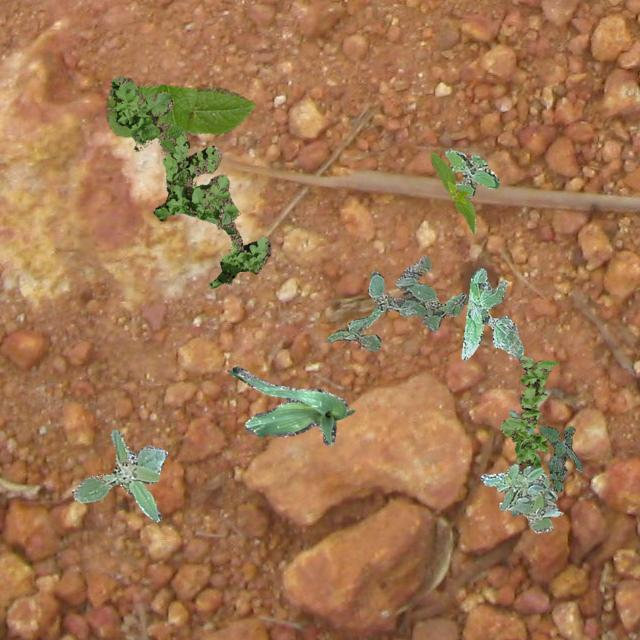crop: (226, 366, 354, 446), (104, 84, 253, 136), (430, 152, 474, 232), (508, 410, 532, 514)
weed: (108, 75, 270, 288), (326, 254, 466, 350), (72, 428, 166, 520), (499, 354, 556, 468), (460, 266, 522, 358), (480, 462, 560, 532), (538, 424, 582, 492), (444, 148, 498, 196)
